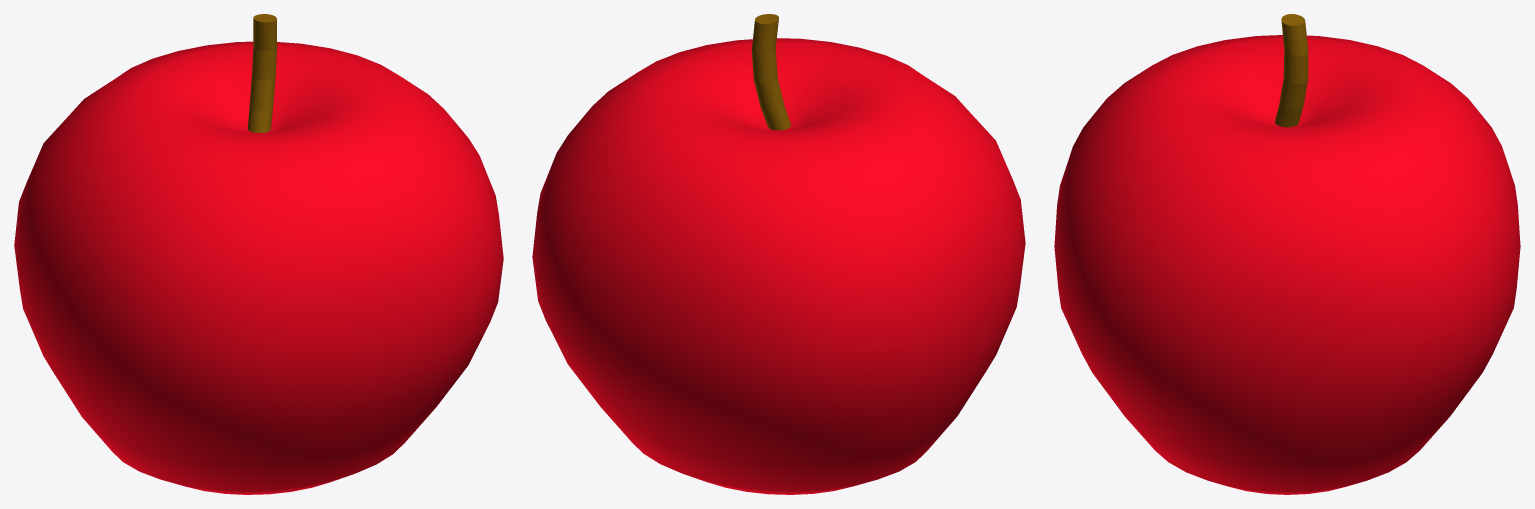
File: fruit.obj
3 views of the same model, side by side, from view 1: azimuth 30°, elevation 25°; view 2: azimuth 150°, elevation 25°; view 3: azimuth 270°, elevation 25° (orthographic).
Parts seen in each view (by area): view 1: 球; view 2: 球; view 3: 球.
Boxes of the visible parts, x1=… form: 球: x1=14, y1=14, x2=503, y2=494; 球: x1=532, y1=14, x2=1025, y2=494; 球: x1=1054, y1=14, x2=1520, y2=494.
Bounding box in the file's own units: 1.8 × 1.78 × 1.75.
2 materials, 2 textured.
